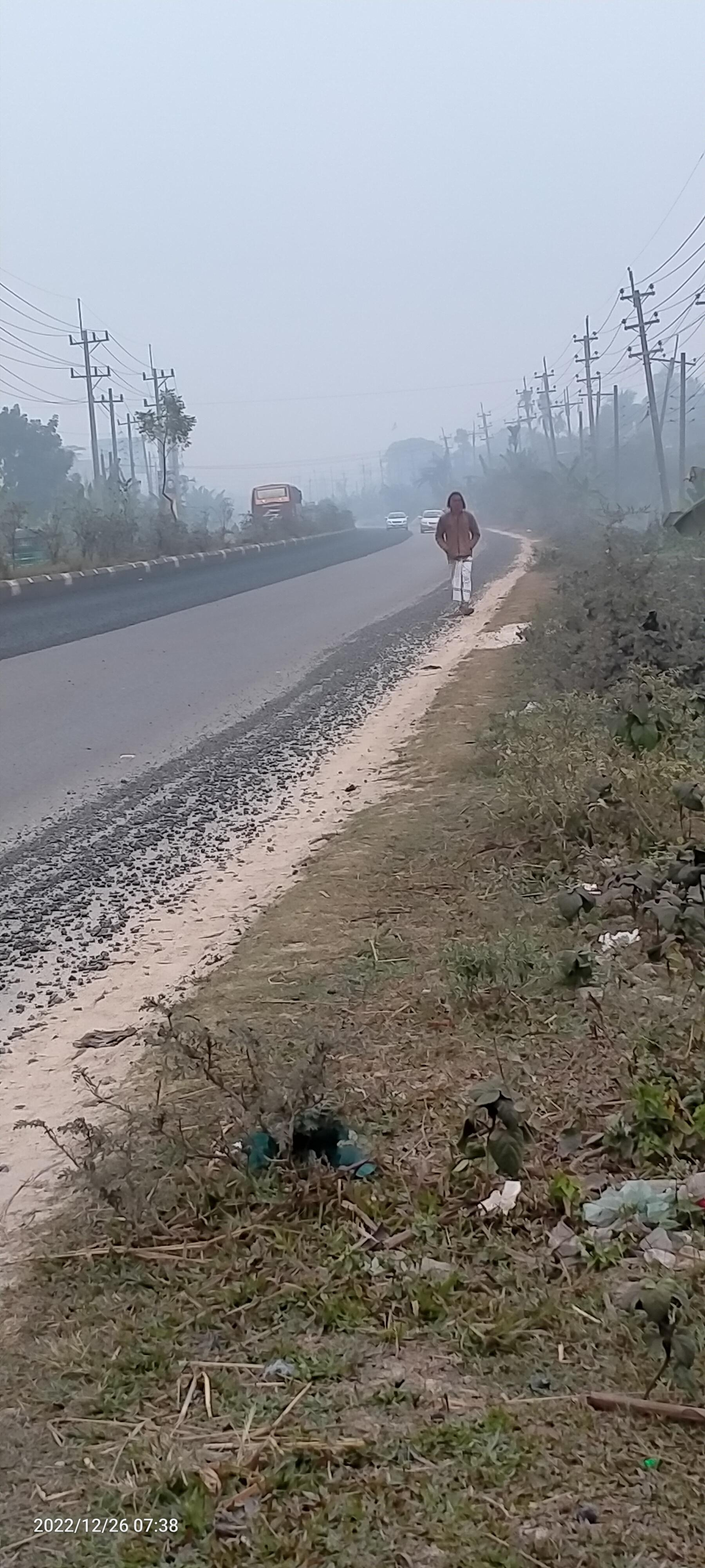Bus: (241, 478, 316, 533)
Car: (416, 504, 448, 535), (380, 507, 414, 533)
